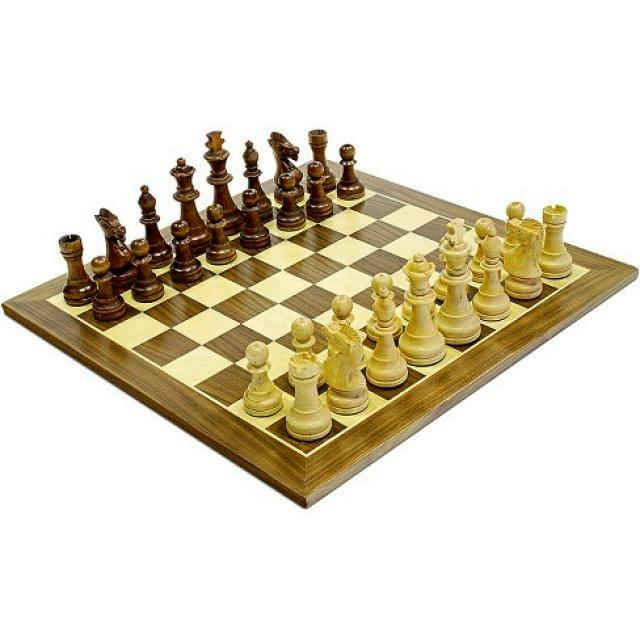chess-table-corners: (288, 442, 328, 468), (574, 258, 604, 284), (32, 290, 59, 308)
